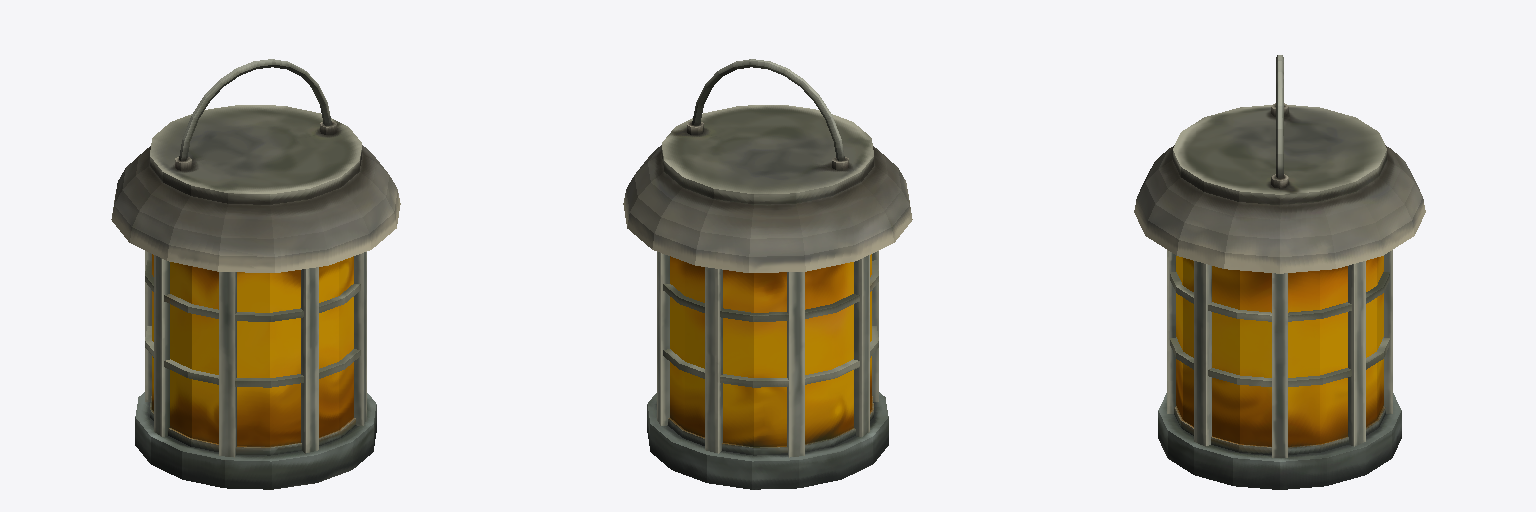
3 renders of one model, left to right at view 1: azimuth 30°, elevation 25°; view 2: azimuth 150°, elevation 25°; view 3: azimuth 270°, elevation 25°, orthographic.
Visible parts, largest first — view 1: Lantern.001; view 2: Lantern.001; view 3: Lantern.001.
Part boxes in pixels (x1,y1,x2,y2): Lantern.001: (111, 59, 400, 489); Lantern.001: (623, 59, 912, 489); Lantern.001: (1134, 55, 1425, 489).
Size of the model in its own units: 0.278 by 0.4083 by 0.278.
Materials: 1 (1 with a texture image).